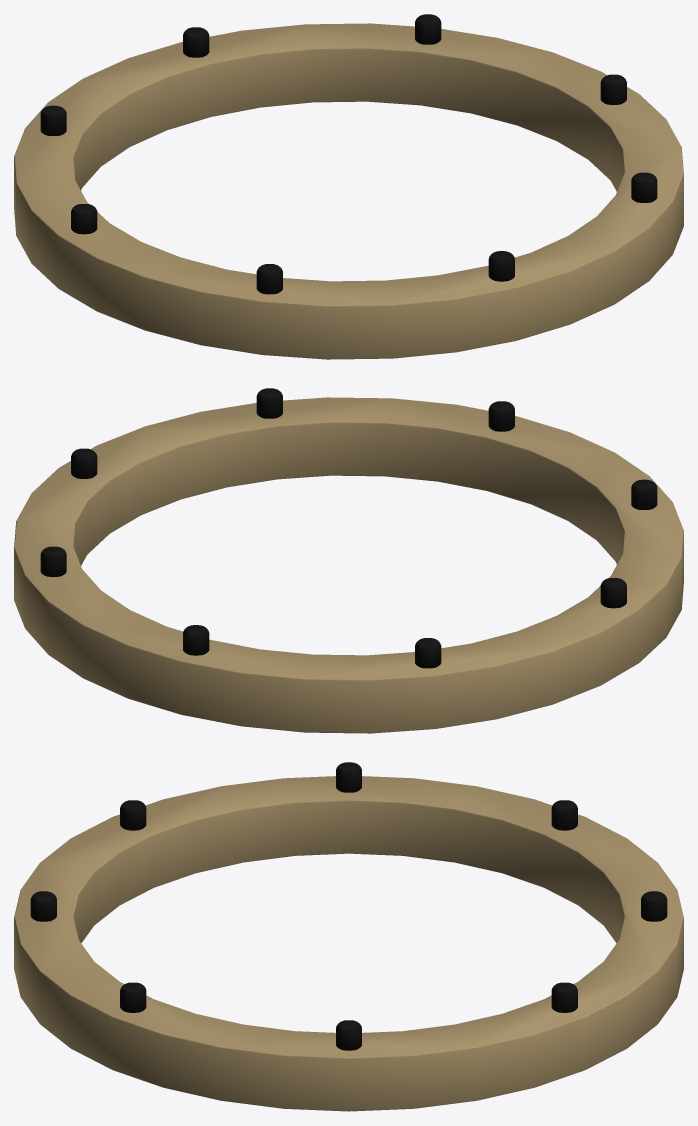
File: rim.glb
3 views of the same model, one above another, from view 1: azimuth 30°, elevation 25°; view 2: azimuth 150°, elevation 25°; view 3: azimuth 270°, elevation 25° (orthographic).
Parts seen in each view (by area): view 1: boat_brass, boat_iron; view 2: boat_brass, boat_iron; view 3: boat_brass, boat_iron.
Part boxes in pixels (x1,y1,x2,y2): boat_brass: (14,23,683,359); boat_iron: (40,14,657,294); boat_brass: (14,397,683,733); boat_iron: (40,388,657,668); boat_brass: (14,776,683,1111); boat_iron: (30,762,667,1050).
Bounding box in the file's own units: 0.56 × 0.07 × 0.56.
Materials: 2 (1 with a texture image).
